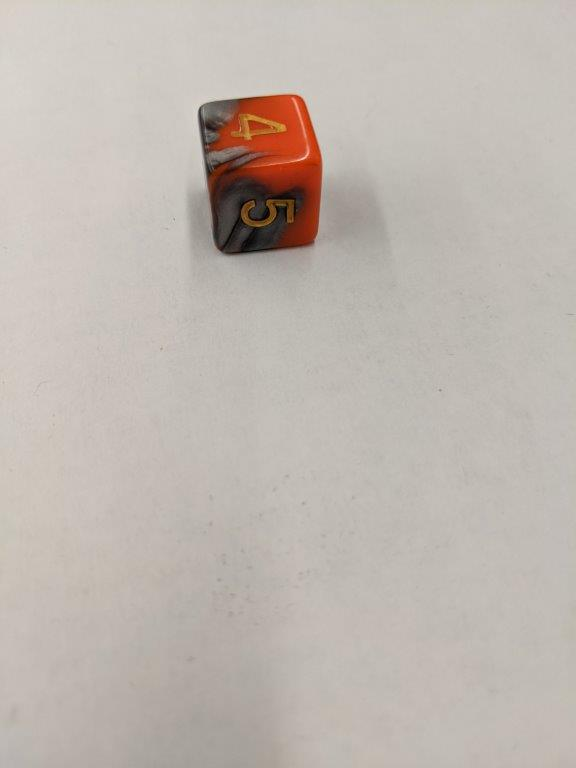d6-4: (197, 93, 324, 256)
